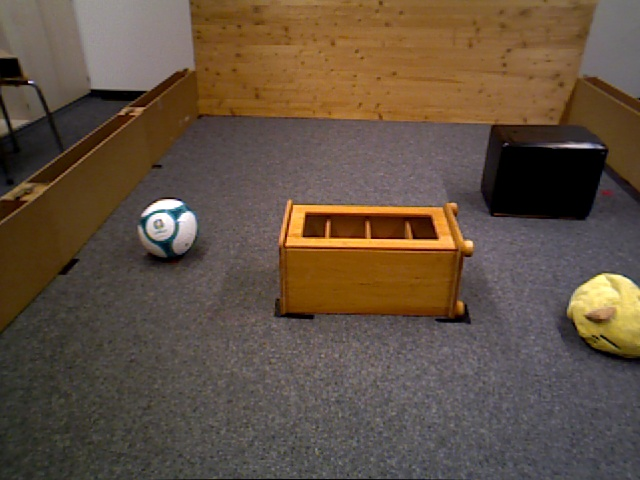grasp: (566, 270, 640, 357)
kick: (138, 197, 197, 263)
push: (488, 126, 608, 223)
